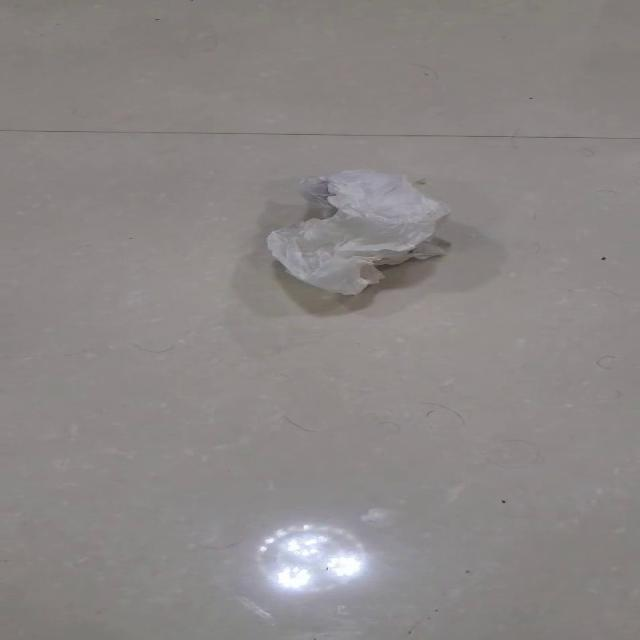plastic: (264, 167, 450, 296)
